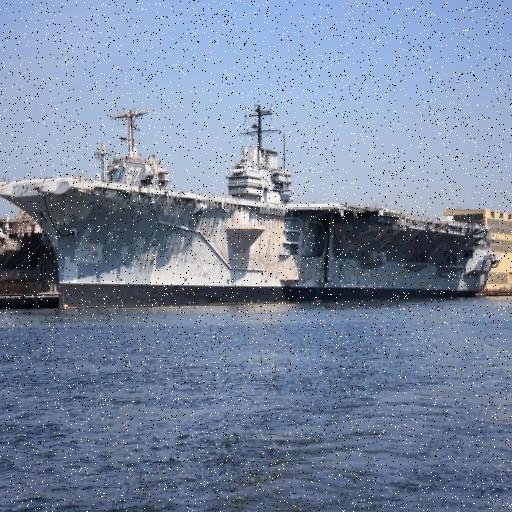Portanaves: (1, 90, 502, 320)
